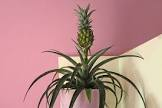Pineapple: (73, 4, 96, 47)
